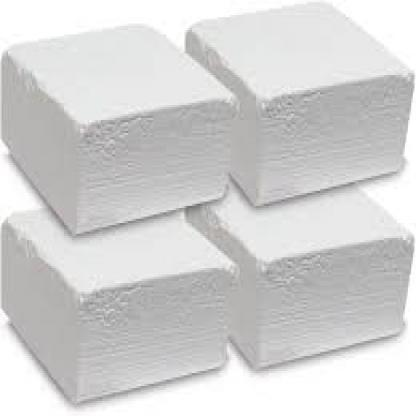Sedimentary_Chalk: (3, 21, 413, 221), (9, 232, 414, 388)
